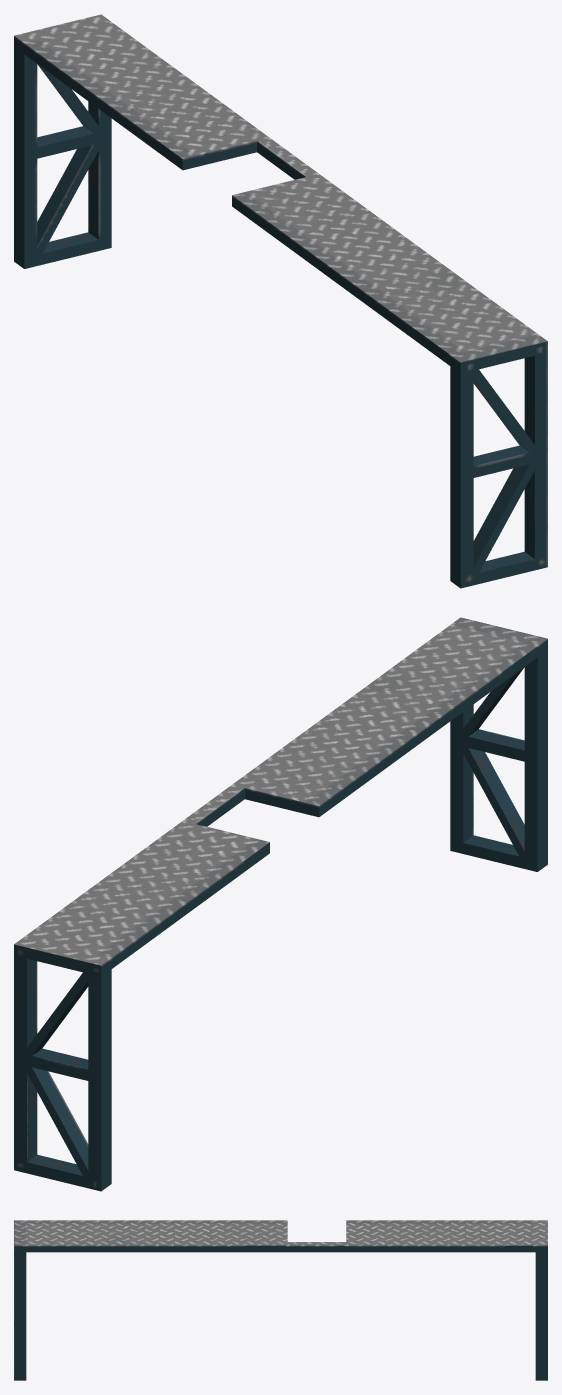
File: platform_tall.fbx
The picture shows the model from 3 angles, top to bottom: view 1: azimuth 30°, elevation 25°; view 2: azimuth 150°, elevation 25°; view 3: azimuth 270°, elevation 25°; orthographic projection. The views are drawn at different scales.
Parts seen in each view (by area): view 1: Cube.110; view 2: Cube.110; view 3: Cube.110.
Part boxes in pixels (x1=…): Cube.110: x1=14, y1=14, x2=547, y2=588; Cube.110: x1=14, y1=617, x2=547, y2=1191; Cube.110: x1=14, y1=1220, x2=547, y2=1380.
Size of the model in its own units: 2360 by 5836 by 20920.
Materials: 1 (1 with a texture image).
